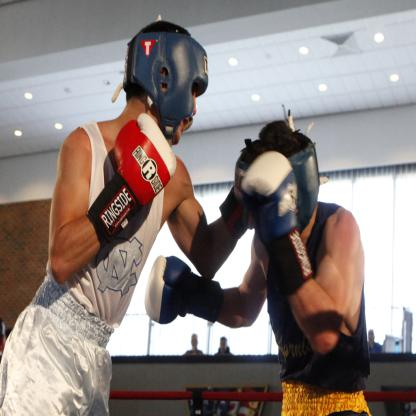Helmet: (110, 20, 214, 139), (244, 116, 322, 229)
